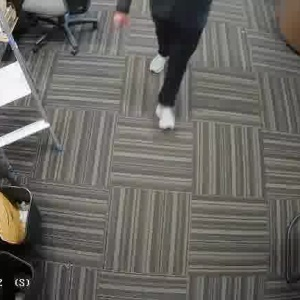person: (128, 0, 214, 134)
